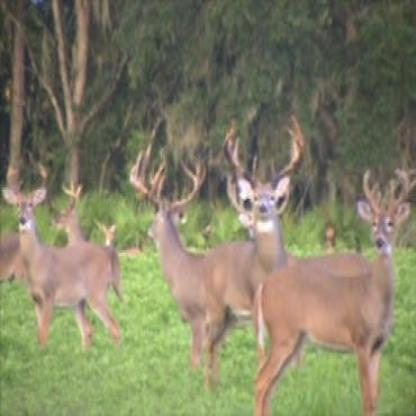Deer: (221, 111, 396, 414), (127, 147, 328, 387), (0, 170, 126, 354)
